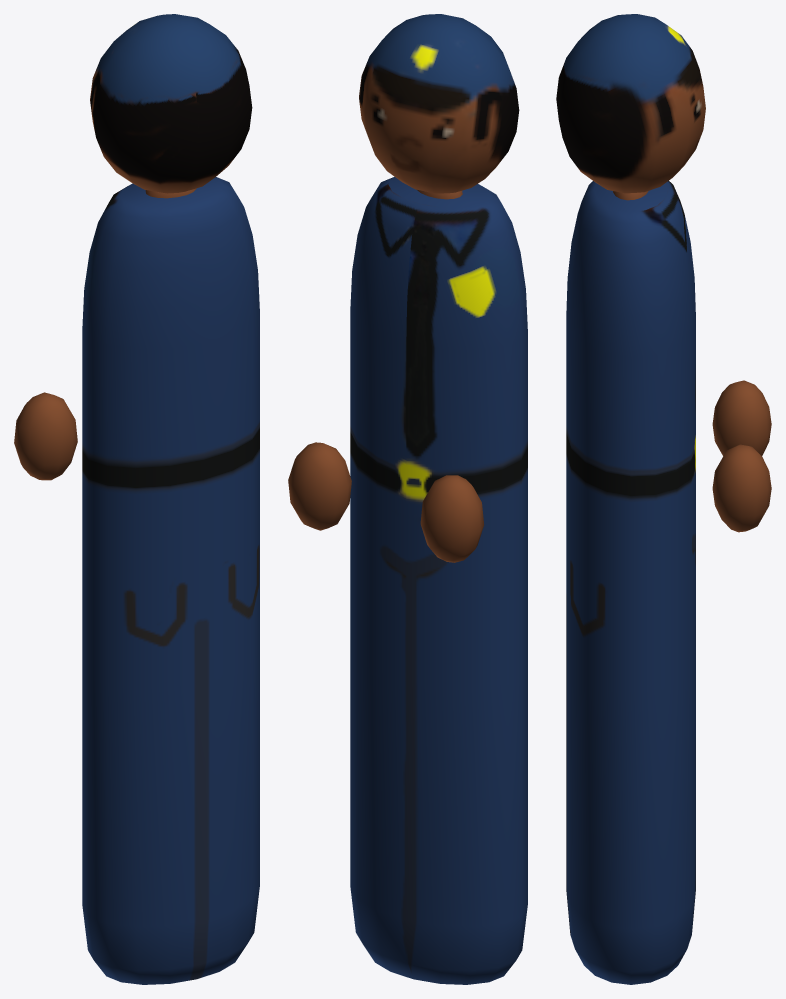
The model's file is seeker_standing_body.glb.
3 renders of one model, left to right at view 1: azimuth 30°, elevation 25°; view 2: azimuth 150°, elevation 25°; view 3: azimuth 270°, elevation 25°, orthographic.
Parts seen in each view (by area): view 1: seeker_standing; view 2: seeker_standing; view 3: seeker_standing.
Boxes of the visible parts, x1,y1,x2,y2 form: seeker_standing: [14, 14, 259, 984]; seeker_standing: [288, 14, 527, 984]; seeker_standing: [556, 14, 771, 984].
Bounding box in the file's own units: 0.3496 × 1.67 × 0.3486.
Materials: 1 (1 with a texture image).
